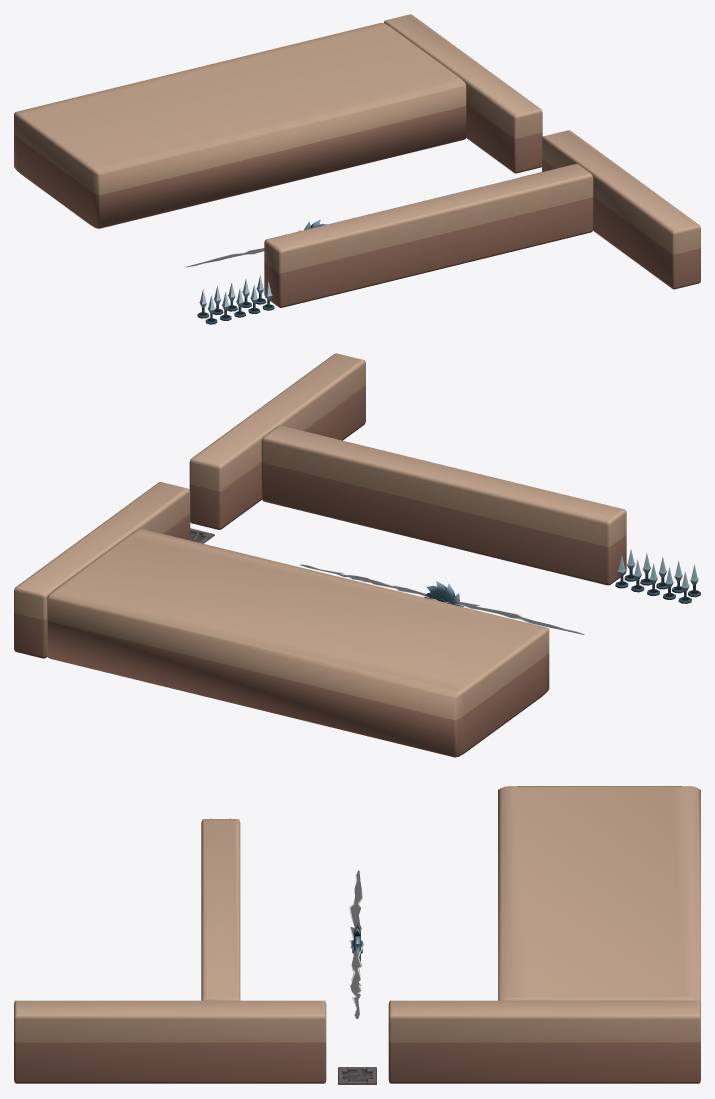
The model's file is Props.fbx.
3 views of the same model, one above another, from view 1: azimuth 30°, elevation 25°; view 2: azimuth 150°, elevation 25°; view 3: azimuth 270°, elevation 25° (orthographic). The views are drawn at different scales.
Visible parts, largest first — view 1: Box20-2 (1), Box20-2, Box20-2 (2), Box20-2 (3); view 2: Box20-2 (1), Box20-2, Box20-2 (2), Box20-2 (3), liefeng; view 3: Box20-2 (1), Box20-2 (2), Box20-2 (3), Box20-2, liefeng, penhuo_cool.
Boxes of the visible parts, box(x1,y1,x2,y2) form: Box20-2 (1): box(14, 23, 466, 228); Box20-2: box(264, 164, 593, 307); Box20-2 (2): box(542, 130, 700, 289); Box20-2 (3): box(384, 14, 542, 173); Box20-2 (1): box(47, 529, 549, 757); Box20-2: box(261, 425, 626, 585); Box20-2 (2): box(189, 353, 365, 529); Box20-2 (3): box(14, 482, 190, 658); liefeng: box(300, 564, 584, 634); Box20-2 (1): box(498, 786, 700, 1002); Box20-2 (2): box(14, 1000, 326, 1083); Box20-2 (3): box(388, 1000, 700, 1083); Box20-2: box(201, 819, 240, 1000); liefeng: box(349, 870, 363, 1018); penhuo_cool: box(338, 1067, 376, 1084).
Size of the model in its own units: 28.87 by 5.31 by 35.2.
